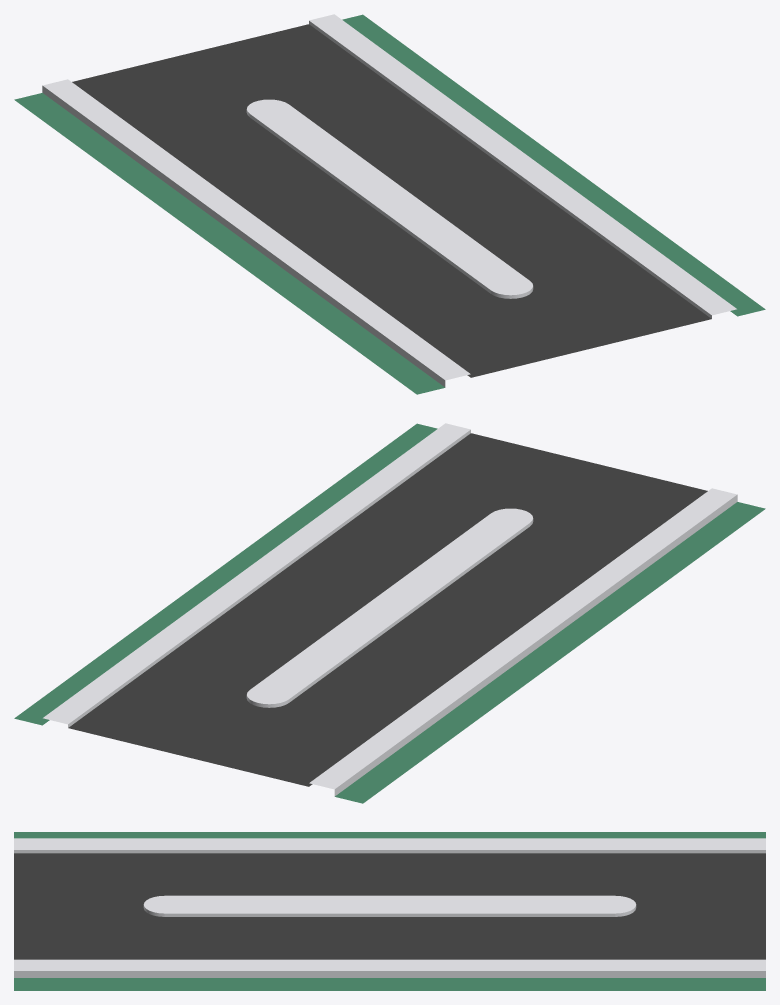
Rendered from roadStraightLongMid.glb.
3 views of the same model, one above another, from view 1: azimuth 30°, elevation 25°; view 2: azimuth 150°, elevation 25°; view 3: azimuth 270°, elevation 25° (orthographic). The views are drawn at different scales.
Parts seen in each view (by area): view 1: roadStraightLongMid(Clone); view 2: roadStraightLongMid(Clone); view 3: roadStraightLongMid(Clone).
Part boxes in pixels (bbox=[...]): roadStraightLongMid(Clone): bbox=[14, 14, 765, 394]; roadStraightLongMid(Clone): bbox=[14, 423, 765, 803]; roadStraightLongMid(Clone): bbox=[14, 832, 765, 990].
Bounding box in the file's own units: 1 × 0.02 × 2.
